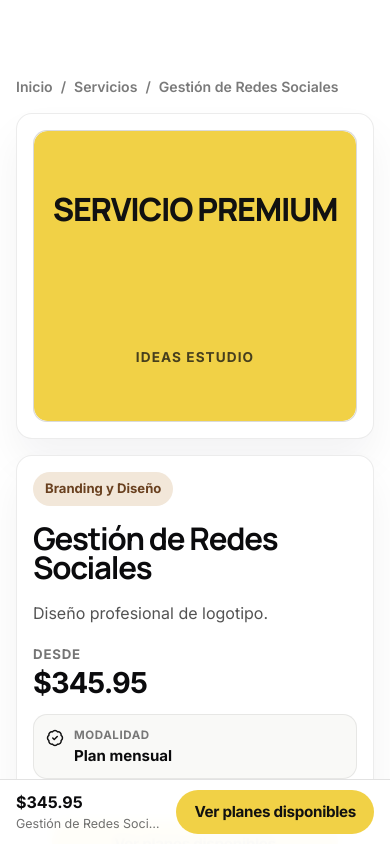
Test case: ProductDetailPage — single CTA for monthly-flow services with membership plans › the mobile sticky CTA also opens the modal (type=button) instead of checkout when plans are available
Expected: the heading "Gestión de Redes Sociales" is shown, left=33, top=517, right=277, bottom=588
Click the button with class "service-detail-mobile-cta__btn" at point(275, 812), box left=176, top=790, right=374, bottom=834
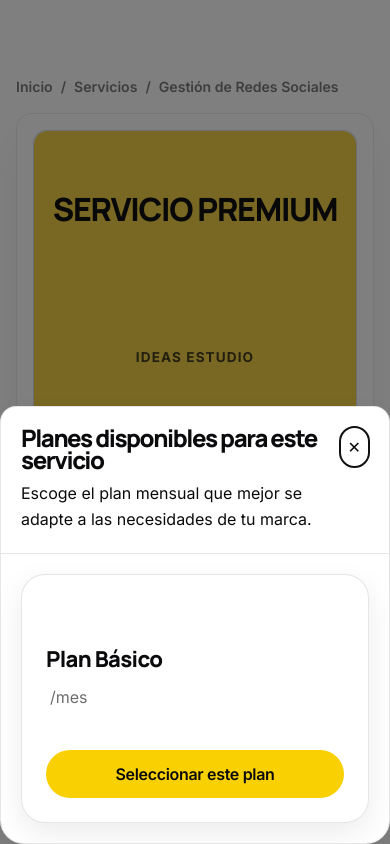
Expected: the dialog is shown, left=0, top=406, right=389, bottom=843
